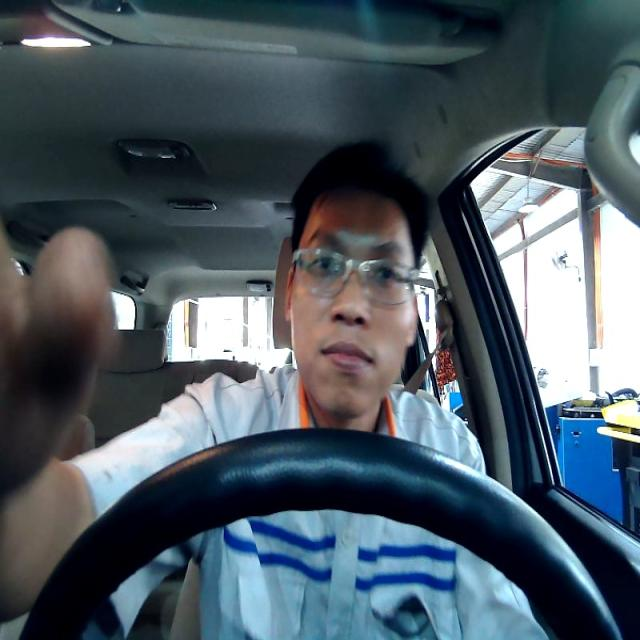focused: (285, 189, 419, 417)
